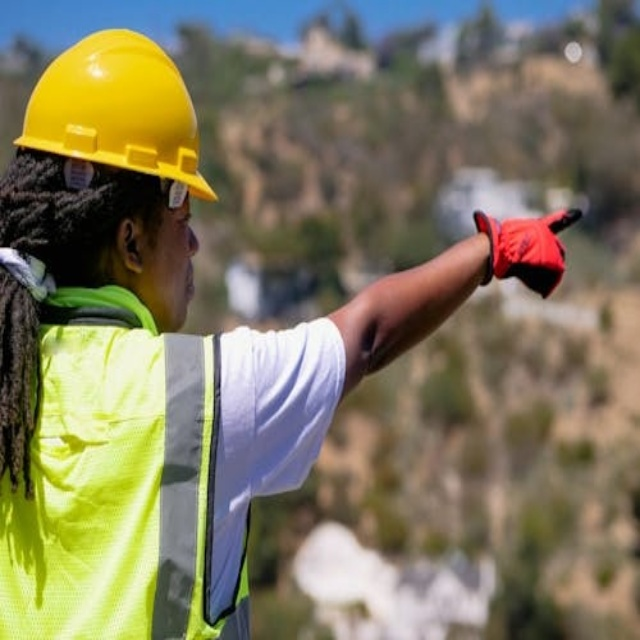Guantes: (471, 205, 581, 298)
Sin_gafas: (173, 196, 204, 232)
Sin_mascara: (160, 259, 200, 323)
